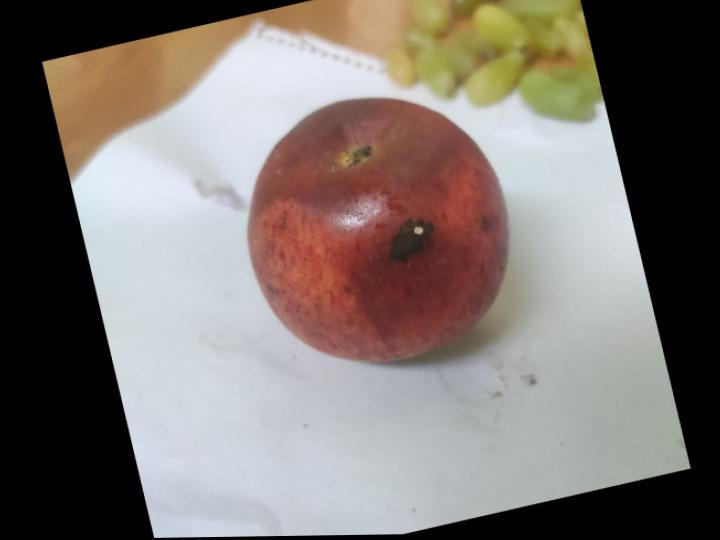apple: (247, 98, 508, 361)
bruise_discoloration: (256, 98, 508, 360)
rot_mold_decay: (387, 219, 433, 261)
